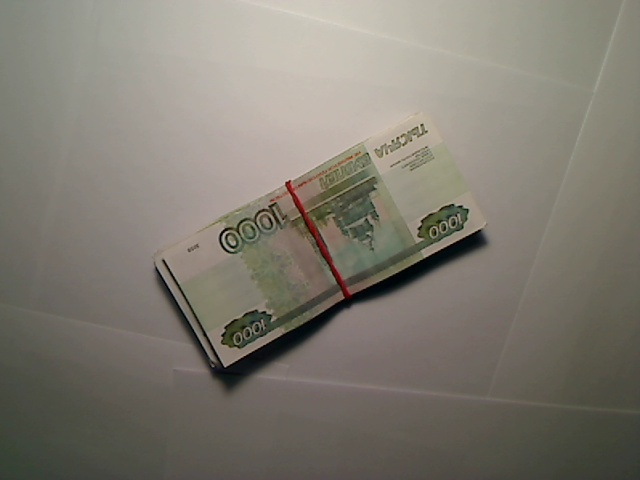banknotes: (149, 111, 492, 379)
